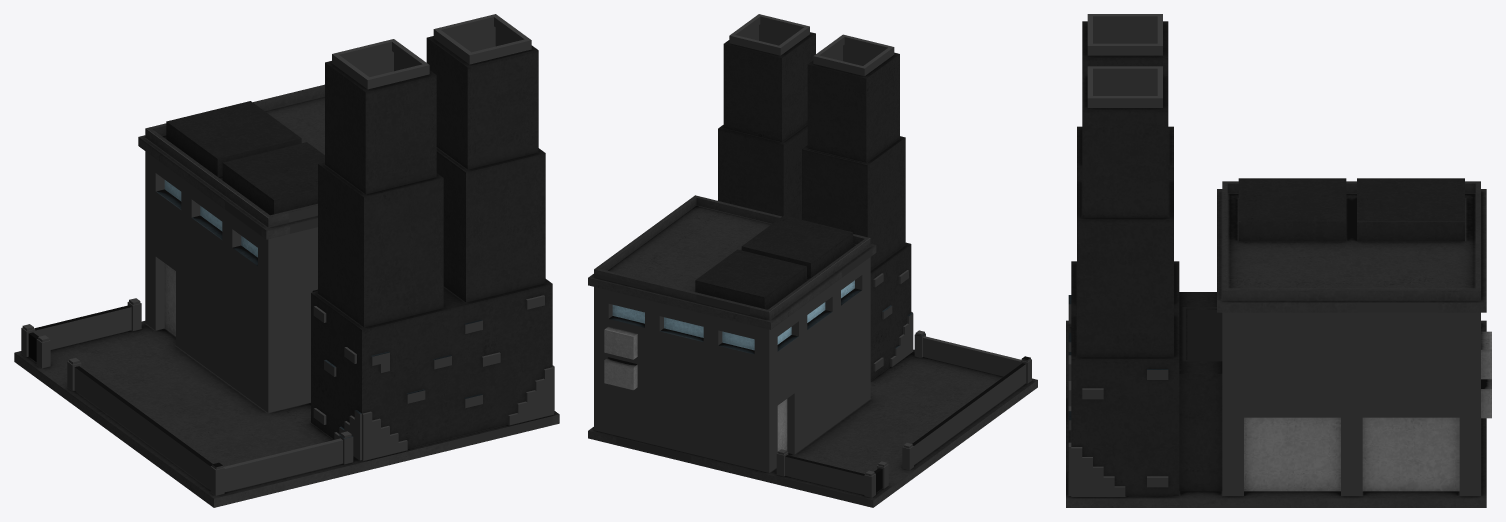
Rendered from FabricaCarton.fbx.
The picture shows the model from 3 angles, left to right: view 1: azimuth 30°, elevation 25°; view 2: azimuth 150°, elevation 25°; view 3: azimuth 270°, elevation 25°; orthographic projection. The views are drawn at different scales.
Visible parts, largest first — view 1: VTP_Factory; view 2: VTP_Factory; view 3: VTP_Factory.
Boxes of the visible parts, left/top/right/bottom form: VTP_Factory: left=14, top=14, right=559, bottom=507; VTP_Factory: left=588, top=14, right=1037, bottom=507; VTP_Factory: left=1066, top=14, right=1491, bottom=507.
Bounding box in the file's own units: 7800 × 8200 × 7900.
Materials: 2 (1 with a texture image).
